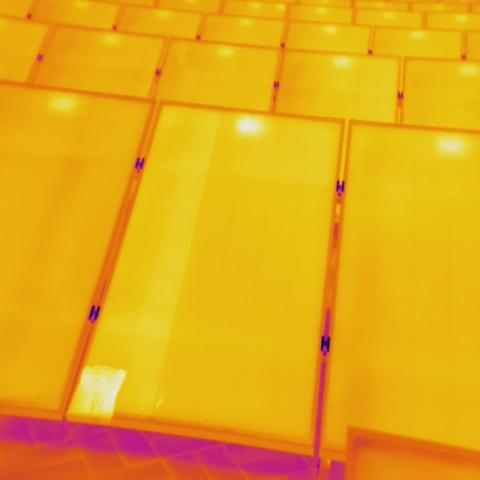fault: (64, 365, 129, 421), (235, 108, 266, 142)
